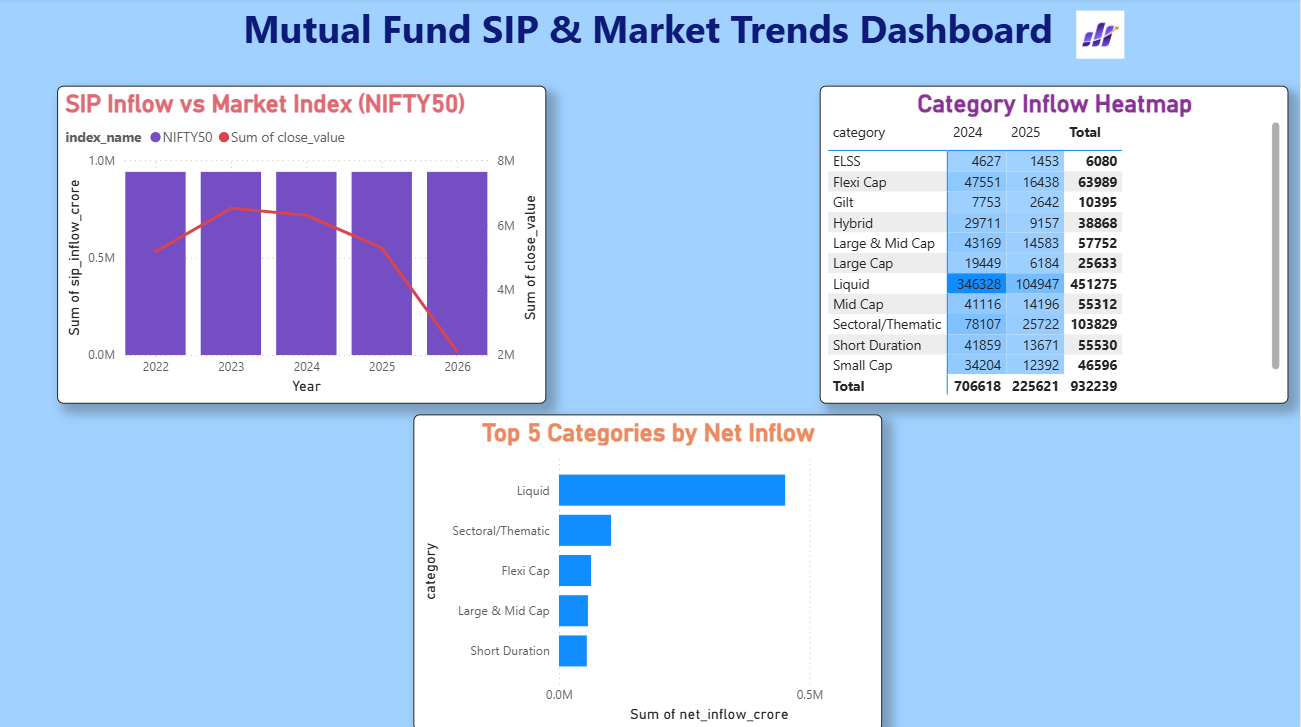

This screenshot's page, from the dashboard's own definition file:
{"tool":"powerbi","page":{"name":"SIP & Market Trends","canvas":[1280,720],"ordinal":3},"visuals":[{"type":"textbox","box":[0,0,1280,72.2],"z":0},{"type":"lineClusteredColumnComboChart","title":"SIP Inflow vs Market Index (NIFTY50)","fields":{"Category":["clean_10_benchmark_indices.date.Variation.Date Hierarchy.Year","clean_10_benchmark_indices.date.Variation.Date Hierarchy.Quarter","clean_10_benchmark_indices.date.Variation.Date Hierarchy.Month","clean_10_benchmark_indices.date.Variation.Date Hierarchy.Day","clean_04_monthly_sip_inflows.month.Variation.Date Hierarchy.Year","clean_04_monthly_sip_inflows.month.Variation.Date Hierarchy.Quarter","clean_04_monthly_sip_inflows.month.Variation.Date Hierarchy.Month","clean_04_monthly_sip_inflows.month.Variation.Date Hierarchy.Day"],"Y":["Sum(clean_04_monthly_sip_inflows.sip_inflow_crore)"],"Y2":["Sum(clean_10_benchmark_indices.close_value)"],"Series":["clean_10_benchmark_indices.index_name"]},"box":[60,86.7,480,311.7],"z":1000},{"type":"pivotTable","title":"  Category Inflow Heatmap","fields":{"Rows":["clean_05_category_inflows.category"],"Columns":["clean_05_category_inflows.month.Variation.Date Hierarchy.Year","clean_05_category_inflows.month.Variation.Date Hierarchy.Quarter","clean_05_category_inflows.month.Variation.Date Hierarchy.Month","clean_05_category_inflows.month.Variation.Date Hierarchy.Day"],"Values":["Sum(clean_05_category_inflows.net_inflow_crore)"]},"box":[808.3,86.7,460,311.7],"z":2000},{"type":"clusteredBarChart","title":"      Top 5 Categories by Net Inflow","fields":{"Category":["clean_05_category_inflows.category"],"Y":["Sum(clean_05_category_inflows.net_inflow_crore)"]},"box":[410,410,460,310],"z":3000},{"type":"image","box":[1051.7,8.3,65,56.7],"z":3001}]}

Visuals, with their boxes in screenshot pixels (x1, y1, x2, y2), scaled from the page's 1280x720 canvas onto the 1301x727 screenshot:
textbox: l=0, t=0, r=1300, b=73
"SIP Inflow vs Market Index (NIFTY50)" lineClusteredColumnComboChart: l=61, t=88, r=549, b=402
"  Category Inflow Heatmap" pivotTable: l=822, t=88, r=1289, b=402
"      Top 5 Categories by Net Inflow" clusteredBarChart: l=417, t=414, r=884, b=726
image: l=1069, t=8, r=1135, b=66
